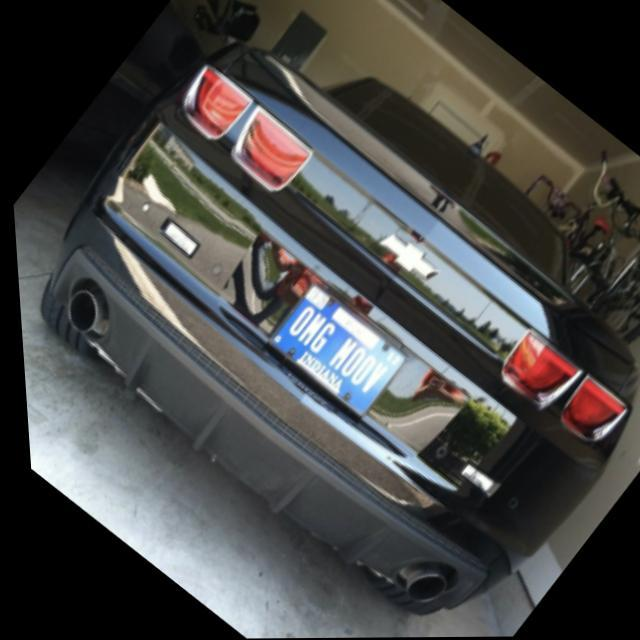license_plate: (257, 276, 408, 418)
